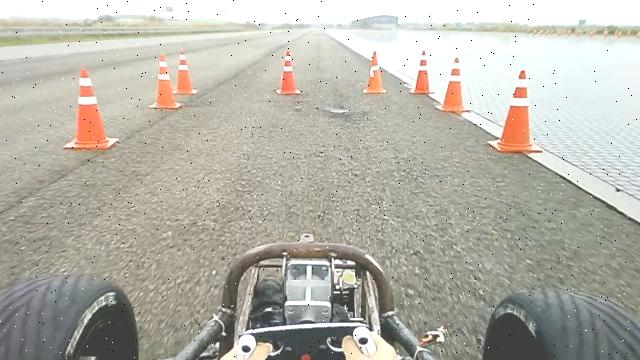red cone: (62, 66, 120, 150), (487, 68, 543, 153), (435, 56, 471, 113), (148, 53, 183, 109), (276, 49, 302, 95), (173, 49, 198, 95), (410, 48, 435, 94), (363, 50, 387, 94)
